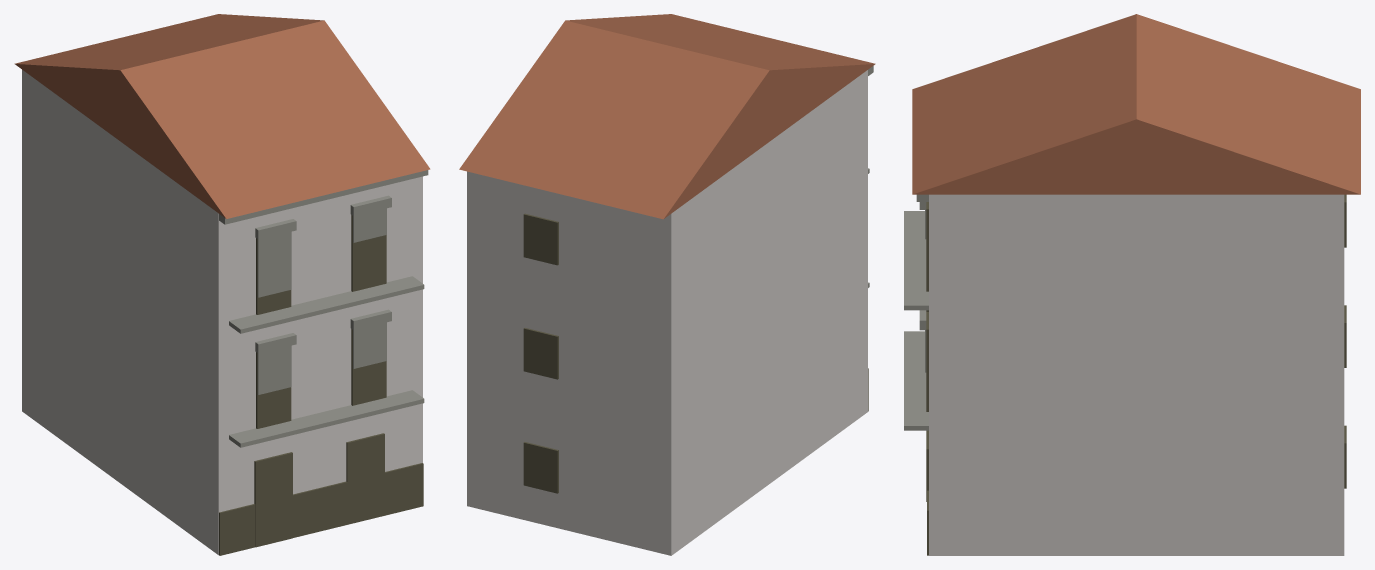
Rendered from SM_TresAlturas_v0_Cal_LOD1.fbx.
The picture shows the model from 3 angles, left to right: view 1: azimuth 30°, elevation 25°; view 2: azimuth 150°, elevation 25°; view 3: azimuth 270°, elevation 25°; orthographic projection. The views are drawn at different scales.
Parts seen in each view (by area): view 1: SM_pueblo_valenciano_v10_LOD1; view 2: SM_pueblo_valenciano_v10_LOD1; view 3: SM_pueblo_valenciano_v10_LOD1.
Boxes of the visible parts, x1,y1,x2,y2 form: SM_pueblo_valenciano_v10_LOD1: (14, 14, 430, 555); SM_pueblo_valenciano_v10_LOD1: (459, 14, 875, 555); SM_pueblo_valenciano_v10_LOD1: (904, 14, 1360, 555).
Bounding box in the file's own units: 6 × 11.6 × 11.
